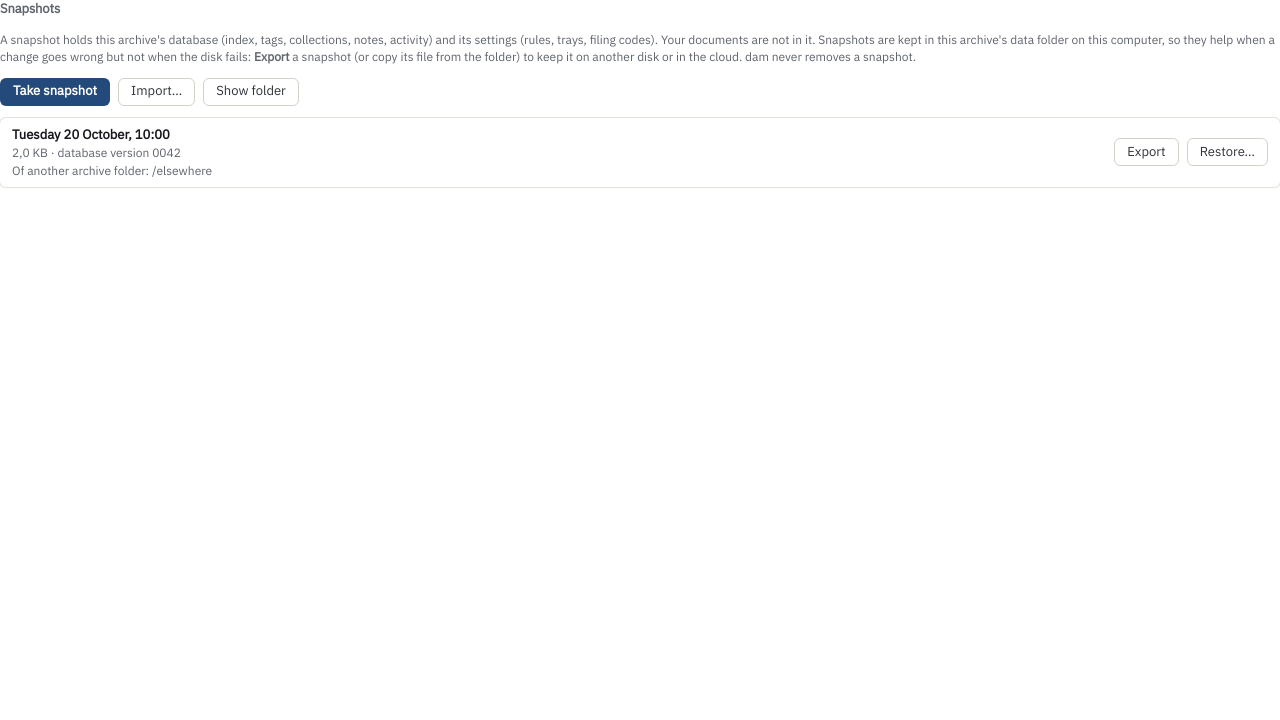
Test case: SnapshotSettings › a snapshot of another archive folder needs a tick, and a failed restore says why
Step 1. Click the button "Restore…" → (1227, 152), box [1187, 138, 1268, 166]
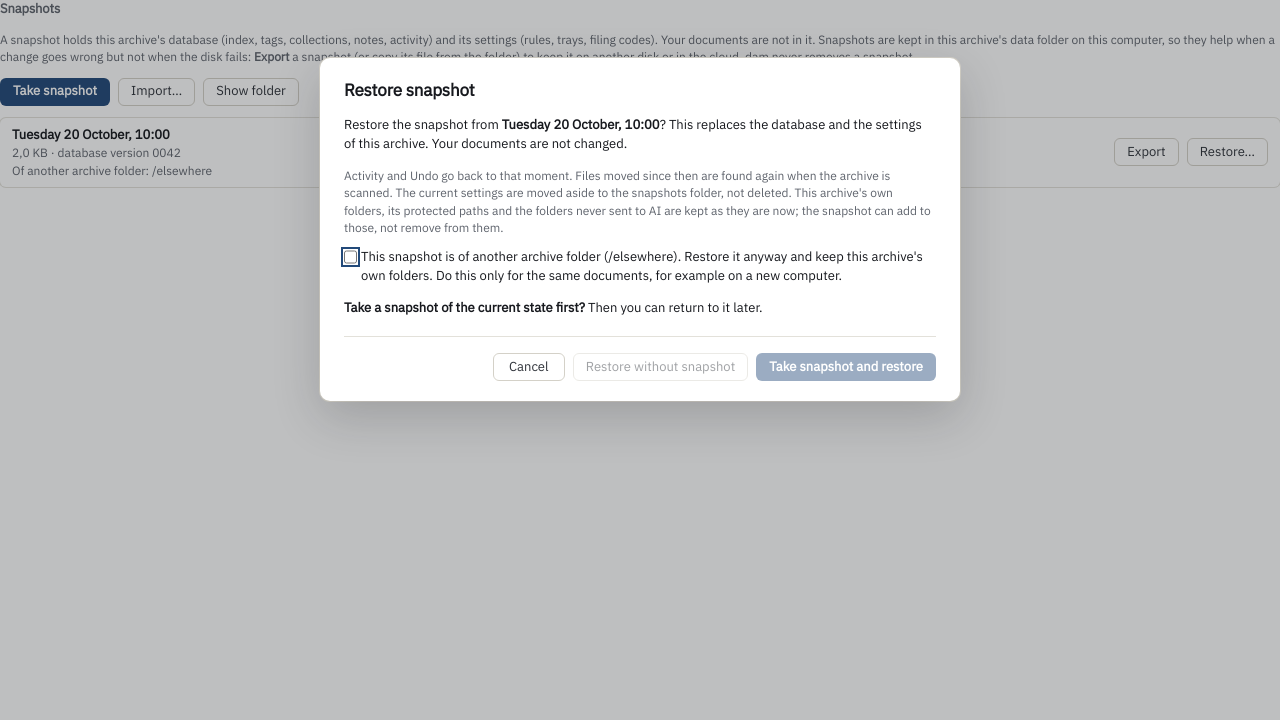
Now the button "Take snapshot and restore" is disabled, box [756, 353, 936, 381]
Step 2. Click the checkbox → (350, 258), box [344, 250, 357, 264]
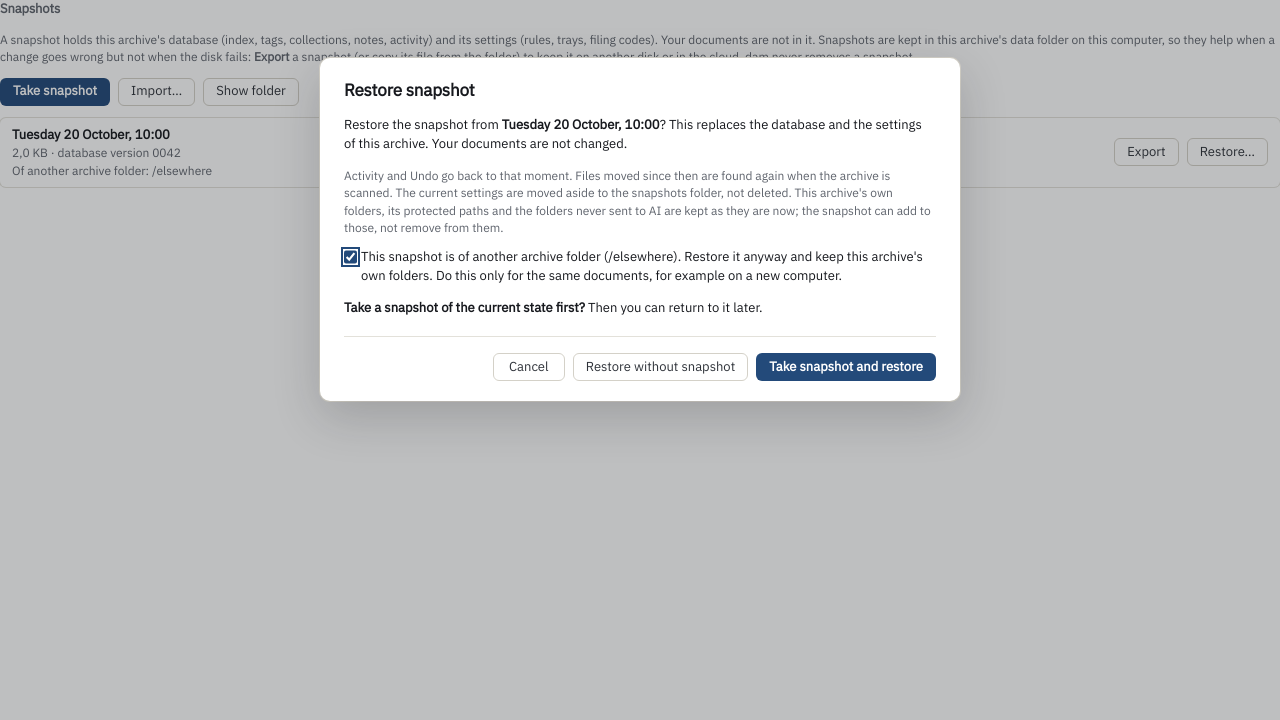
Step 3. Click the button "Take snapshot and restore" → (846, 367), box [756, 353, 936, 381]
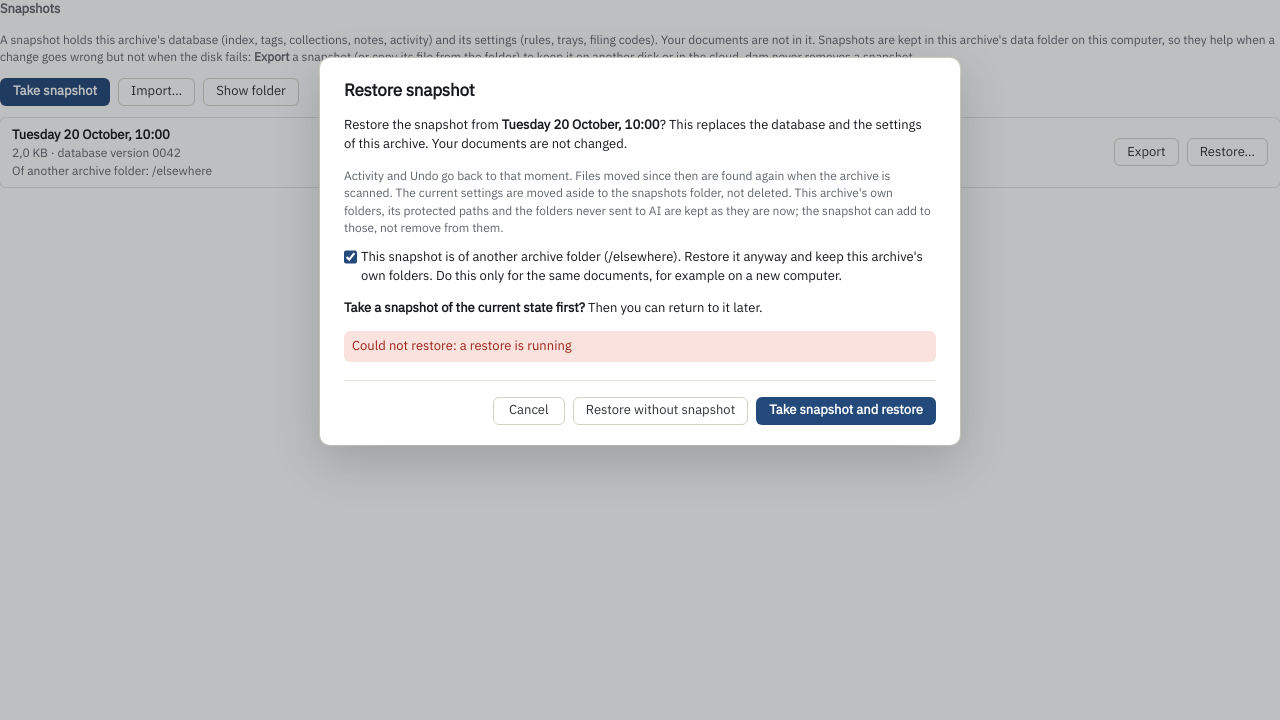
Now the text "Could not restore: a restore is running" is shown, box [344, 331, 936, 362]
